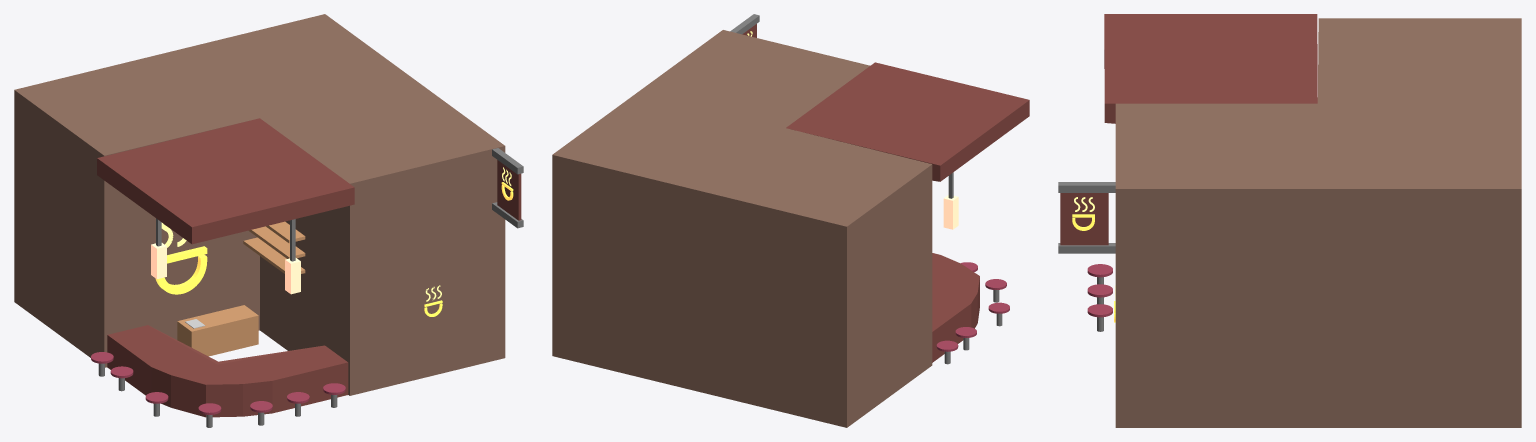
3 views of the same model, side by side, from view 1: azimuth 30°, elevation 25°; view 2: azimuth 150°, elevation 25°; view 3: azimuth 270°, elevation 25° (orthographic). The views are drawn at different scales.
Visible parts, largest first — view 1: Cube.028, Cube.001, Cube, Cube.005, Text.002, Cube.013, Cube.003, Cube.004, Cube.008, Cube.009; view 2: Cube.028, Cube.001, Cube, Cube.008; view 3: Cube.028, Cube.001, Cube.013, Cube.011, Cube.012.
Boxes of the visible parts, <box> form: Cube.028: <box>14,14,505,395</box>; Cube.001: <box>97,118,354,244</box>; Cube: <box>107,325,348,417</box>; Cube.005: <box>177,305,258,356</box>; Text.002: <box>155,222,207,294</box>; Cube.013: <box>497,160,521,220</box>; Cube.003: <box>248,226,305,258</box>; Cube.004: <box>243,237,305,273</box>; Cube.008: <box>151,243,166,279</box>; Cube.009: <box>285,258,300,294</box>; Cube.028: <box>552,30,932,427</box>; Cube.001: <box>786,62,1029,181</box>; Cube: <box>932,253,979,362</box>; Cube.008: <box>943,195,958,229</box>; Cube.028: <box>1115,18,1521,427</box>; Cube.001: <box>1104,14,1317,123</box>; Cube.013: <box>1060,193,1108,245</box>; Cube.011: <box>1058,182,1115,192</box>; Cube.012: <box>1058,243,1115,253</box>.
Size of the model in its own units: 13.16 by 8.1 by 14.22.
